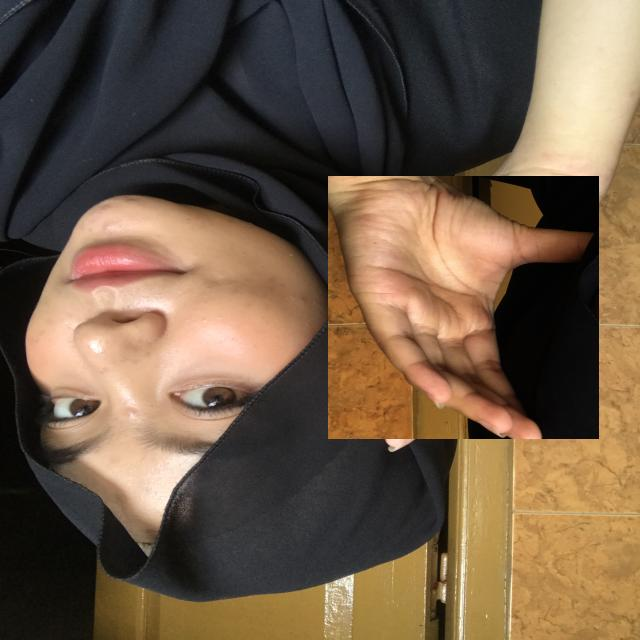mendengar: (328, 176, 599, 439)
